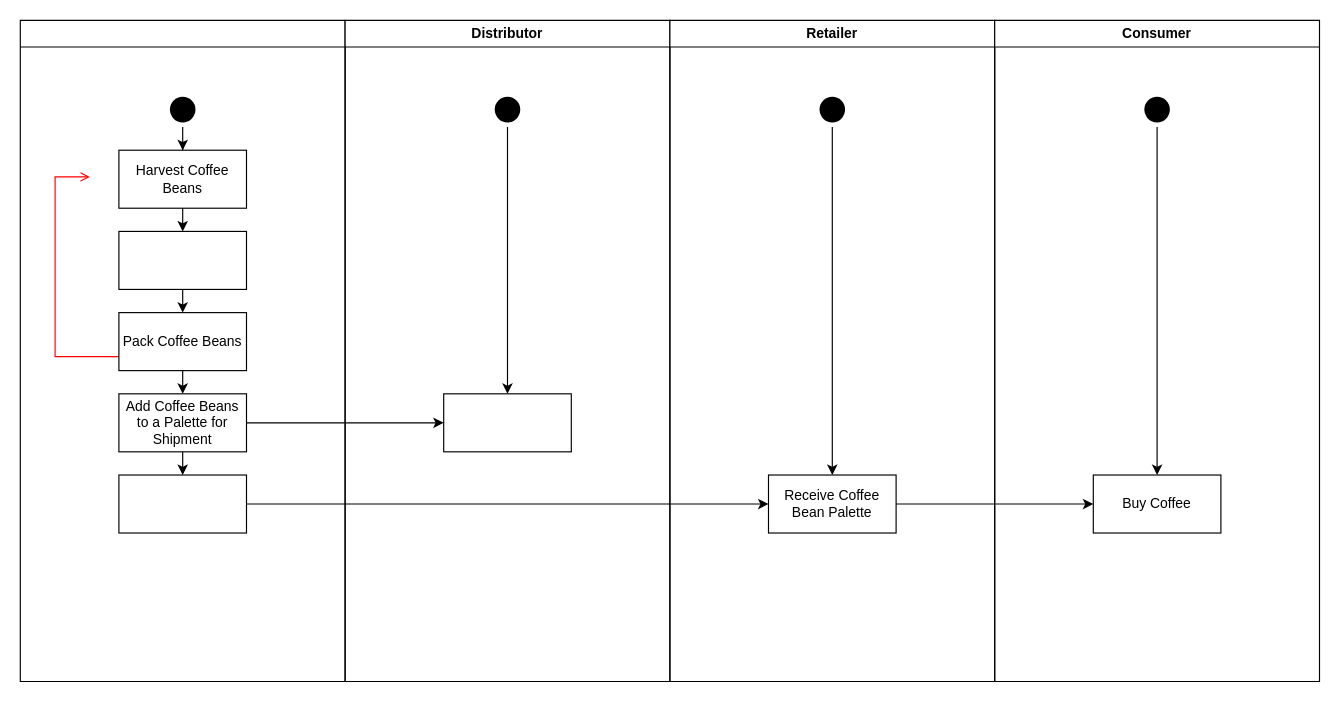
This 1340x702 diagram has some shape labels left out. Here are the shapes that lost their labels. From the top down, the box of each, then its label:
(118, 230, 246, 289): Process Coffee Beans
(19, 19, 345, 682): Farmer
(443, 393, 571, 452): Buy Coffee Bean Palette
(118, 474, 246, 533): Ship Coffee Bean Palette
